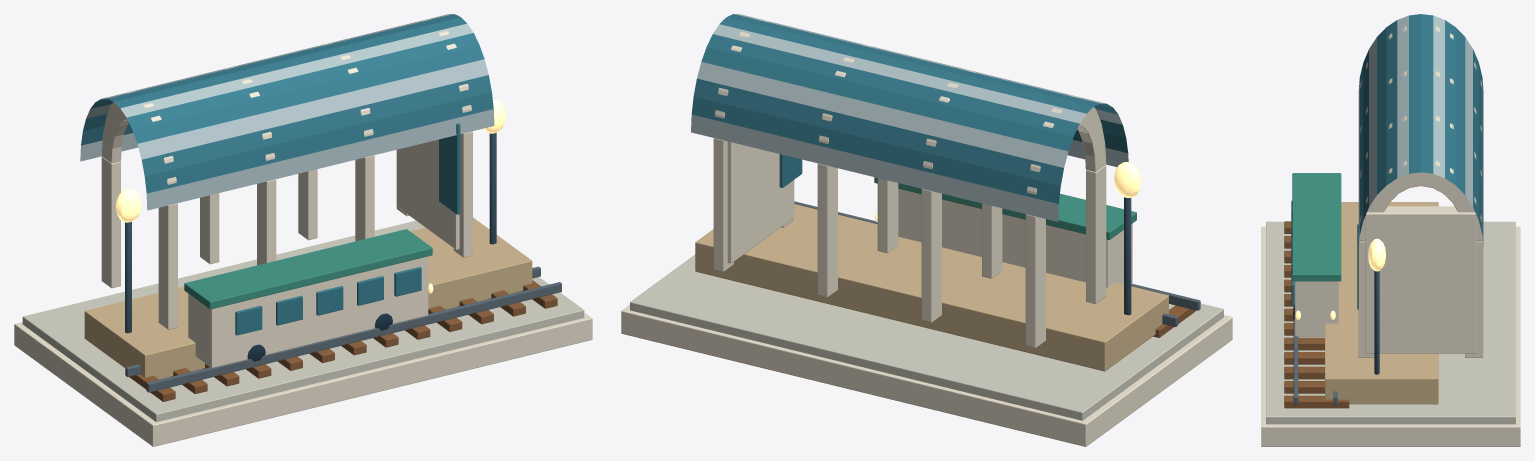
File: transit-station-east.glb
3 views of the same model, side by side, from view 1: azimuth 30°, elevation 25°; view 2: azimuth 150°, elevation 25°; view 3: azimuth 270°, elevation 25° (orthographic). The views are drawn at different scales.
Visible parts, largest first — view 1: Transit Station · East; view 2: Transit Station · East; view 3: Transit Station · East.
Boxes of the visible parts, x1,y1,x2,y2 form: Transit Station · East: [14, 14, 592, 446]; Transit Station · East: [621, 14, 1232, 446]; Transit Station · East: [1261, 14, 1520, 446].
Bounding box in the file's own units: 1.47 × 0.87 × 0.8064.
